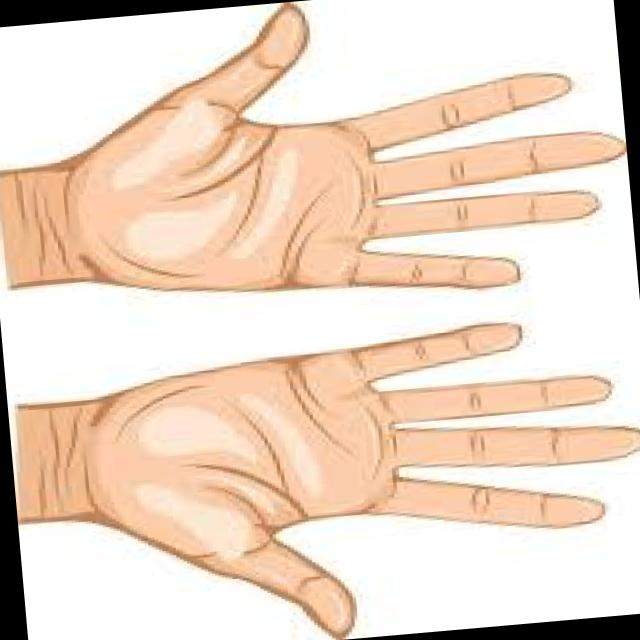Hand: (38, 0, 637, 325), (66, 304, 640, 640)
